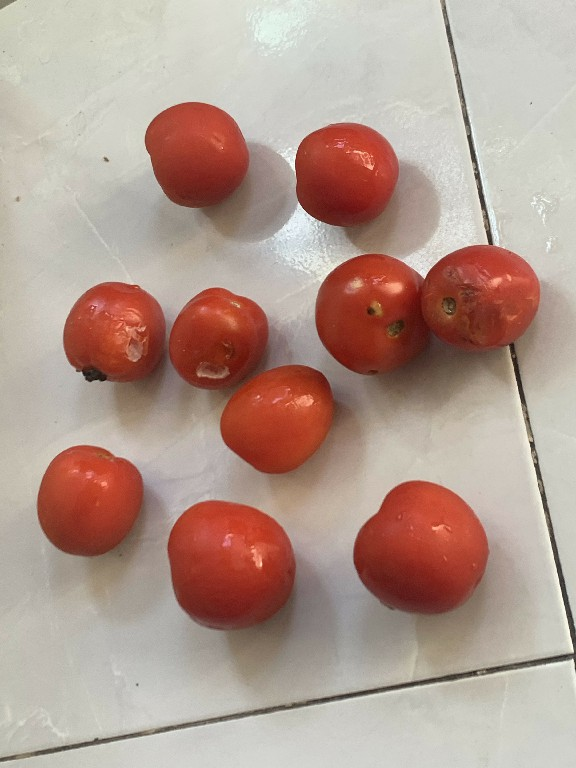NG: (312, 252, 420, 380), (421, 237, 539, 351), (60, 275, 168, 391), (166, 282, 269, 396)
OK: (156, 499, 305, 628), (352, 480, 490, 613), (217, 359, 336, 476), (135, 94, 252, 211), (35, 440, 150, 558), (291, 116, 397, 230)
